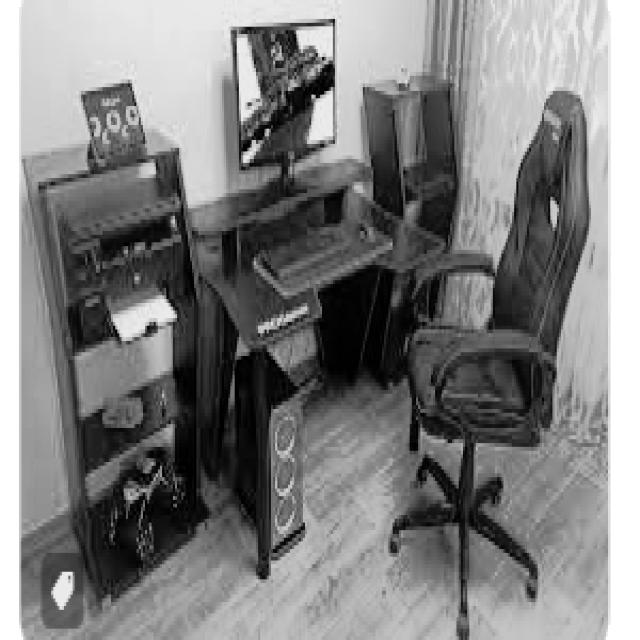book: (386, 87, 591, 636)
table: (183, 152, 446, 576)
